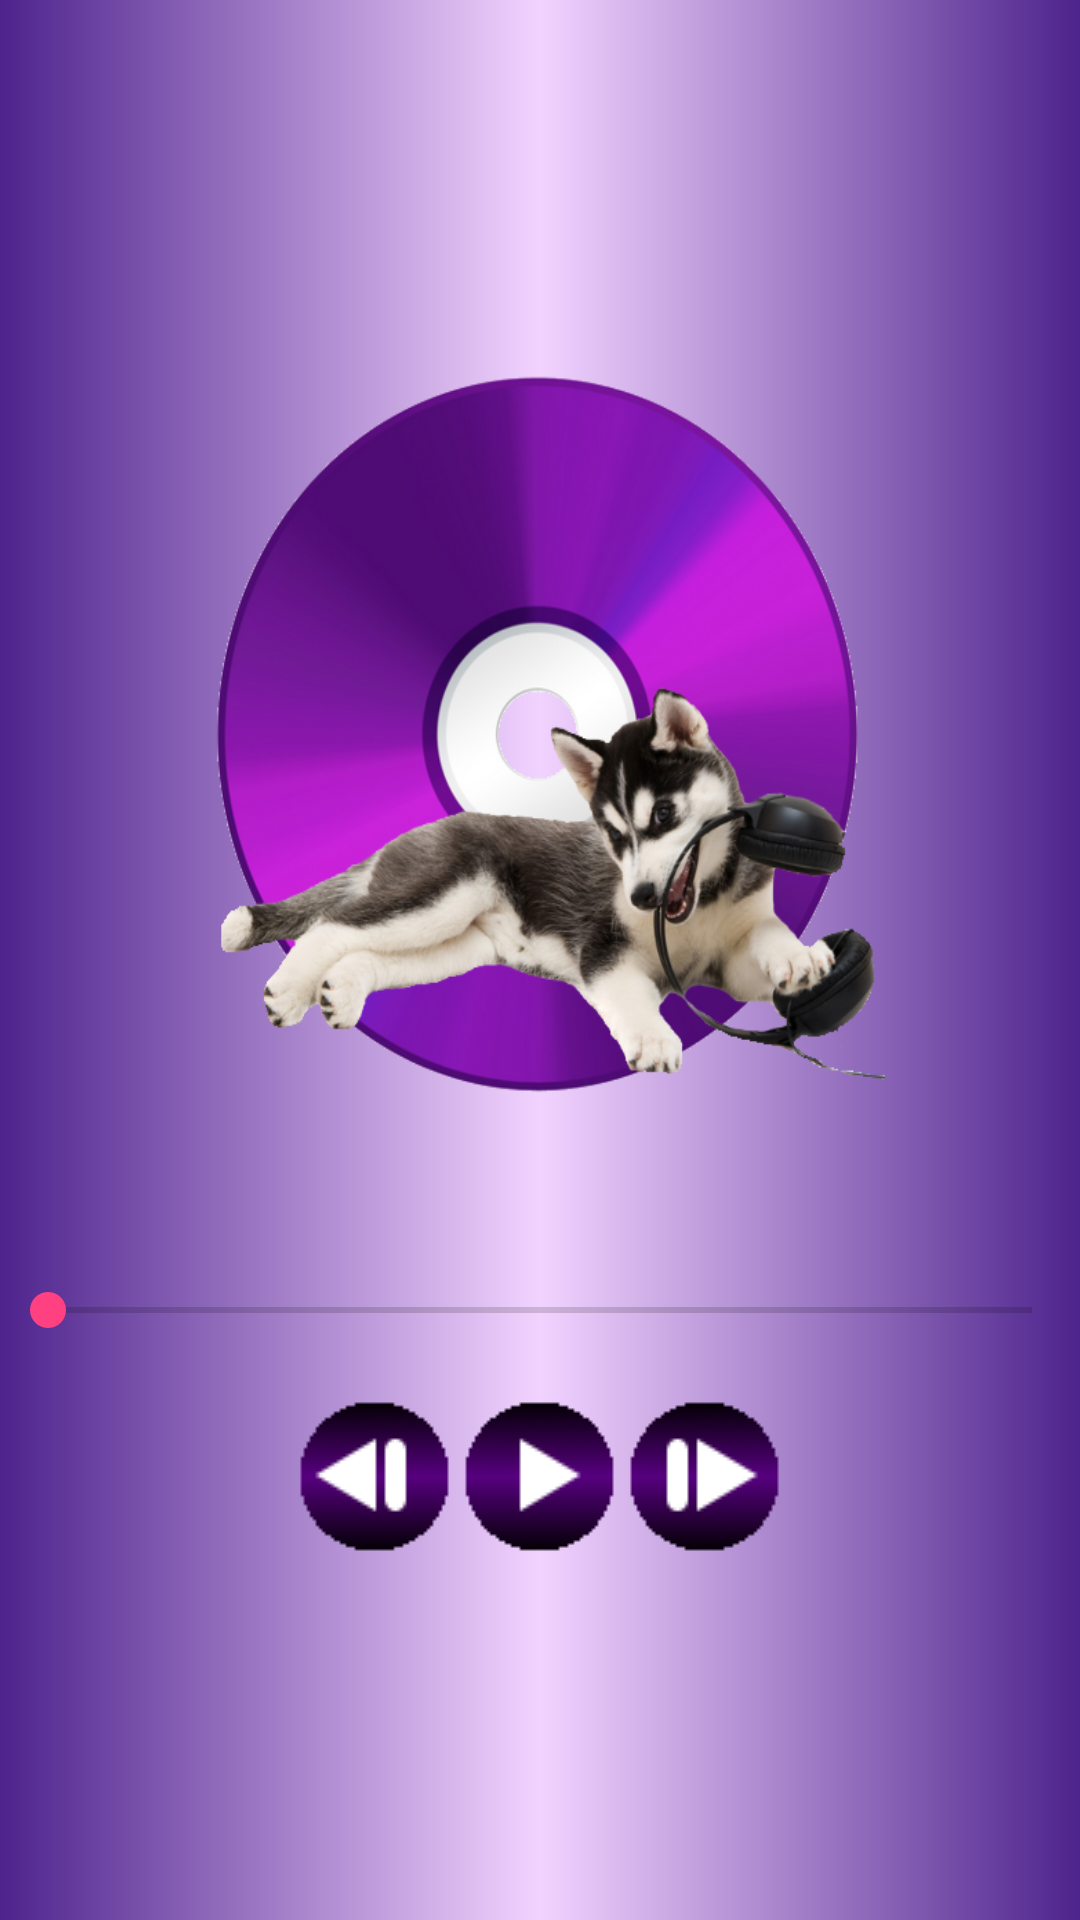

Icons on this 1080 × 1920 Android screen, each with the point to tap as (x,y):
next: (704,1476)
play: (539,1476)
previous: (374,1476)
